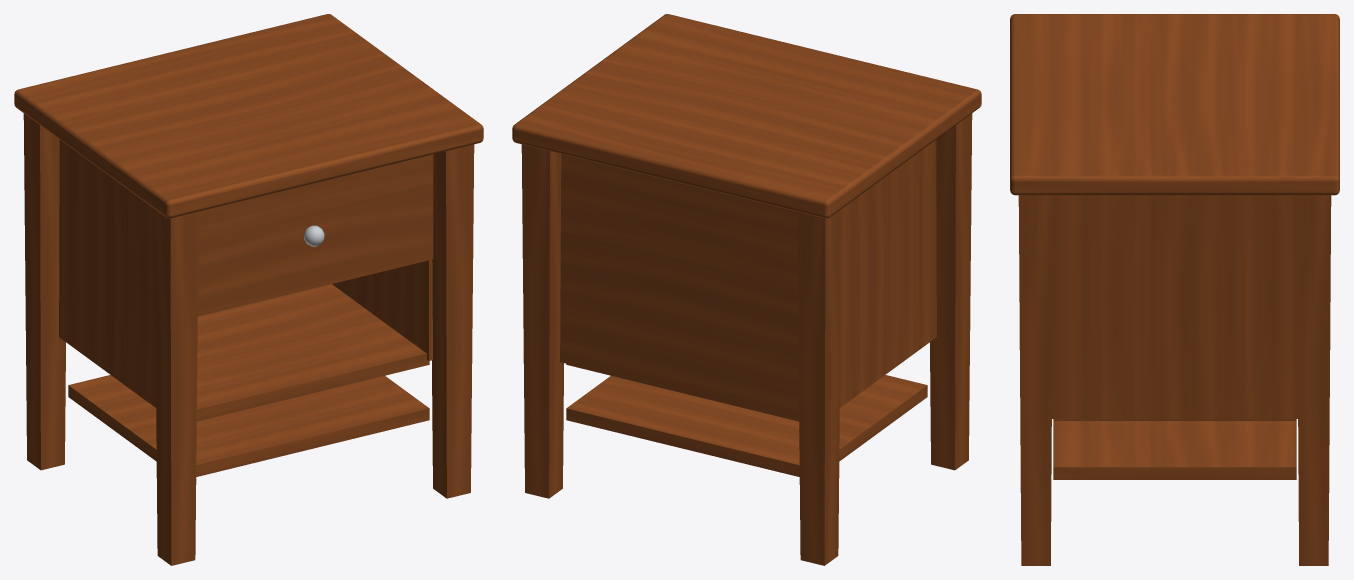
Rendered from mesita-noche.glb.
The picture shows the model from 3 angles, left to right: view 1: azimuth 30°, elevation 25°; view 2: azimuth 150°, elevation 25°; view 3: azimuth 270°, elevation 25°; orthographic projection. The views are drawn at different scales.
Visible parts, largest first — view 1: mesita-noche; view 2: mesita-noche; view 3: mesita-noche.
Part boxes in pixels (x1,y1,x2,y2): mesita-noche: [14, 14, 483, 565]; mesita-noche: [512, 14, 981, 565]; mesita-noche: [1010, 14, 1339, 565].
Size of the model in its own units: 0.45 by 0.5 by 0.38.
Materials: 2 (1 with a texture image).
